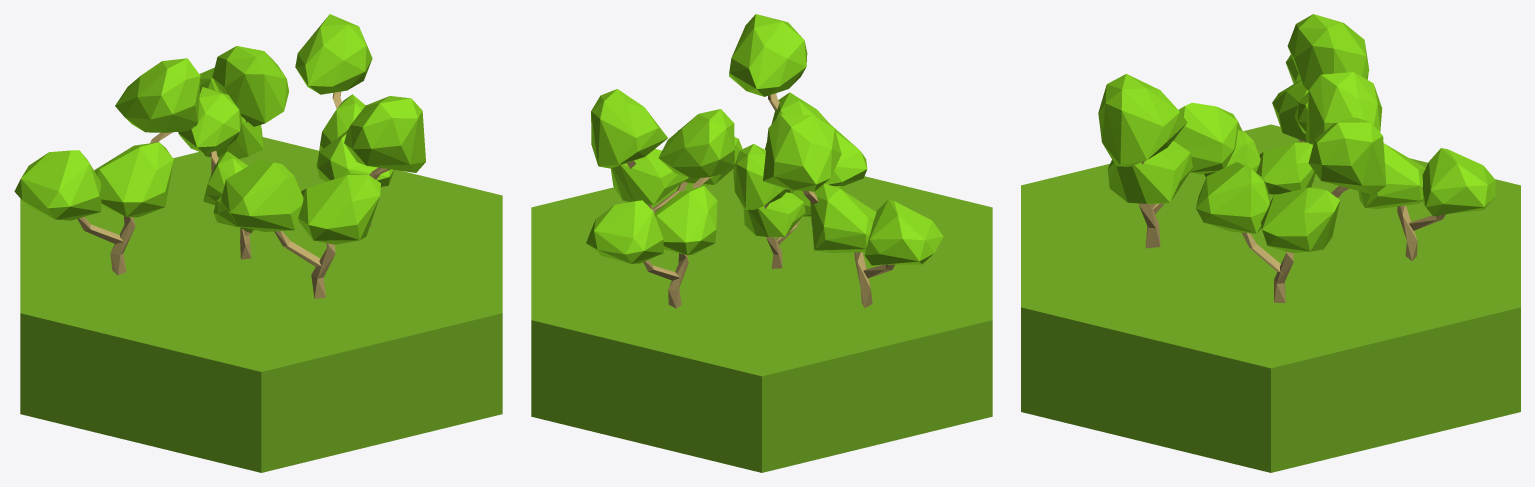
The model's file is Selva.fbx.
3 views of the same model, side by side, from view 1: azimuth 30°, elevation 25°; view 2: azimuth 150°, elevation 25°; view 3: azimuth 270°, elevation 25° (orthographic). The views are drawn at different scales.
Parts seen in each view (by area): view 1: Selva; view 2: Selva; view 3: Selva.
Part boxes in pixels (x1,y1,x2,y2): Selva: (14, 14, 502, 472); Selva: (531, 14, 992, 472); Selva: (1021, 14, 1520, 472).
Bounding box in the file's own units: 200 × 115 × 173.
